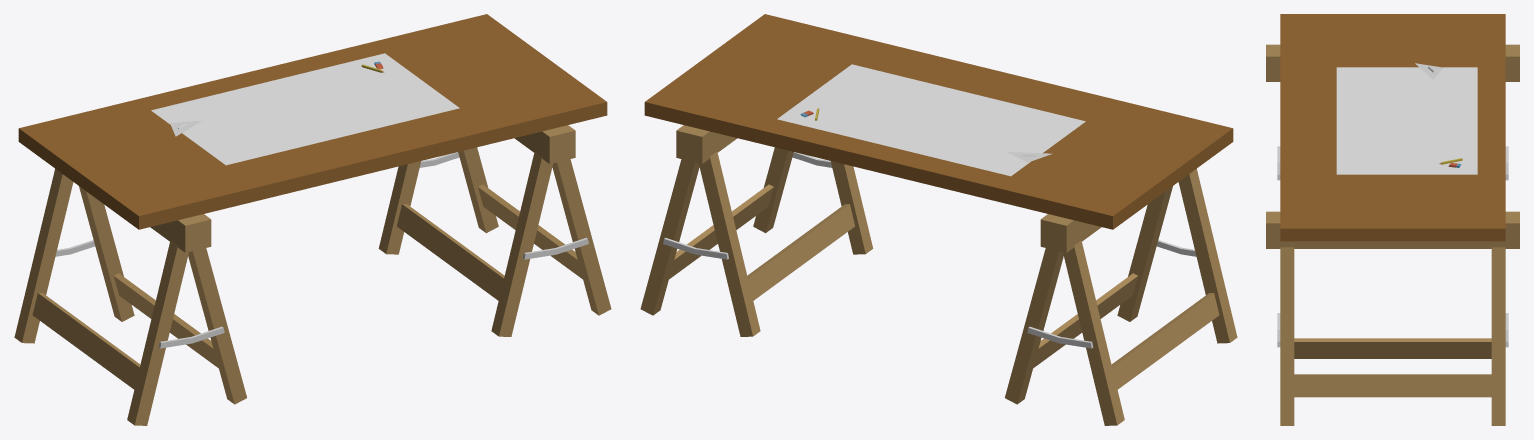
File: Table.fbx
3 views of the same model, side by side, from view 1: azimuth 30°, elevation 25°; view 2: azimuth 150°, elevation 25°; view 3: azimuth 270°, elevation 25° (orthographic). The views are drawn at different scales.
Visible parts, largest first — view 1: Table; view 2: Table; view 3: Table.
Part boxes in pixels (x1,y1,x2,y2): Table: (14,14,611,425); Table: (640,14,1237,425); Table: (1266,14,1519,425).
Bounding box in the file's own units: 183 × 78.64 × 90.
